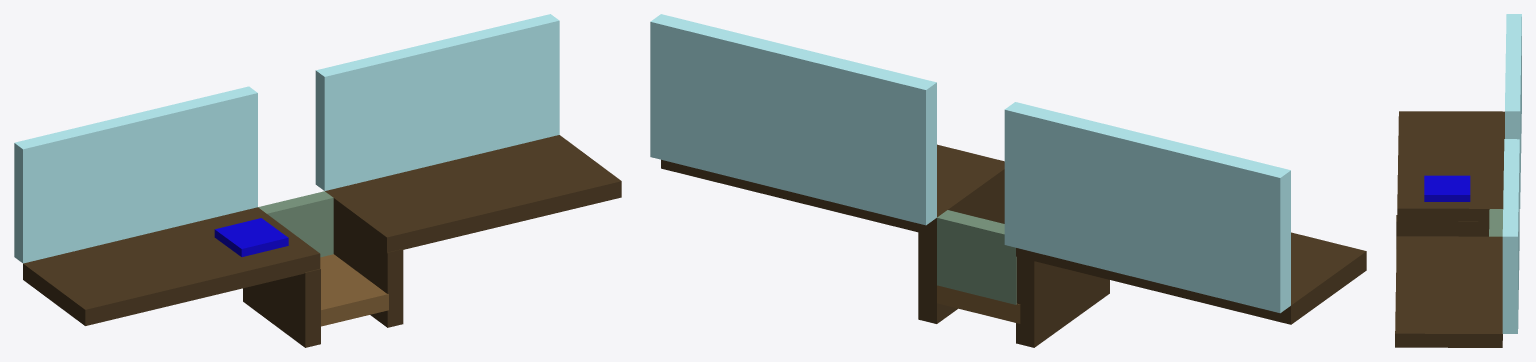
Rendered from tempFiled2.fbx.
3 renders of one model, left to right at view 1: azimuth 30°, elevation 25°; view 2: azimuth 150°, elevation 25°; view 3: azimuth 270°, elevation 25°, orthographic. The views are drawn at different scales.
Visible parts, largest first — view 1: Cube.003, Cube, Cube.002, Cube.001, Cube.007, Cube.008, Cube.004, Cube.006, 立方体; view 2: Cube.003, Cube, Cube.001, Cube.002, Cube.006, Cube.007, Cube.008, Cube.004; view 3: Cube.002, Cube.001, Cube.003, Cube, Cube.007, 立方体, Cube.006.
Boxes of the visible parts, x1=… form: Cube.003: x1=315, y1=14, x2=559, y2=190; Cube: x1=14, y1=86, x2=257, y2=263; Cube.002: x1=325, y1=135, x2=621, y2=253; Cube.001: x1=23, y1=207, x2=320, y2=325; Cube.007: x1=243, y1=269, x2=320, y2=347; Cube.008: x1=333, y1=214, x2=403, y2=327; Cube.004: x1=320, y1=254, x2=388, y2=326; Cube.006: x1=258, y1=191, x2=333, y2=257; 立方体: x1=214, y1=218, x2=288, y2=256; Cube.003: x1=650, y1=14, x2=936, y2=225; Cube: x1=1004, y1=102, x2=1290, y2=313; Cube.001: x1=1016, y1=232, x2=1366, y2=324; Cube.002: x1=661, y1=144, x2=1004, y2=236; Cube.006: x1=937, y1=210, x2=1016, y2=304; Cube.007: x1=1016, y1=257, x2=1109, y2=347; Cube.008: x1=918, y1=188, x2=1004, y2=323; Cube.004: x1=937, y1=285, x2=1020, y2=323; Cube.002: x1=1395, y1=236, x2=1502, y2=347; Cube.001: x1=1397, y1=111, x2=1504, y2=221; Cube.003: x1=1502, y1=139, x2=1519, y2=333; Cube: x1=1505, y1=14, x2=1521, y2=208; Cube.007: x1=1396, y1=215, x2=1489, y2=248; 立方体: x1=1424, y1=175, x2=1470, y2=201; Cube.006: x1=1489, y1=209, x2=1503, y2=236.
Bounding box in the file's own units: 6864 × 2506 × 1649.
